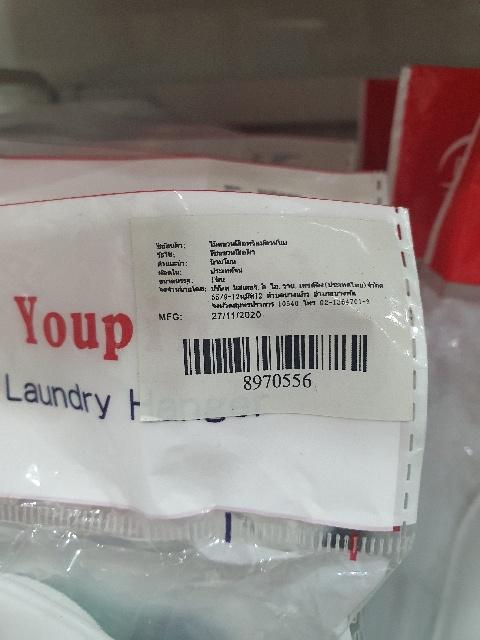Barcode: (176, 325, 379, 390)
